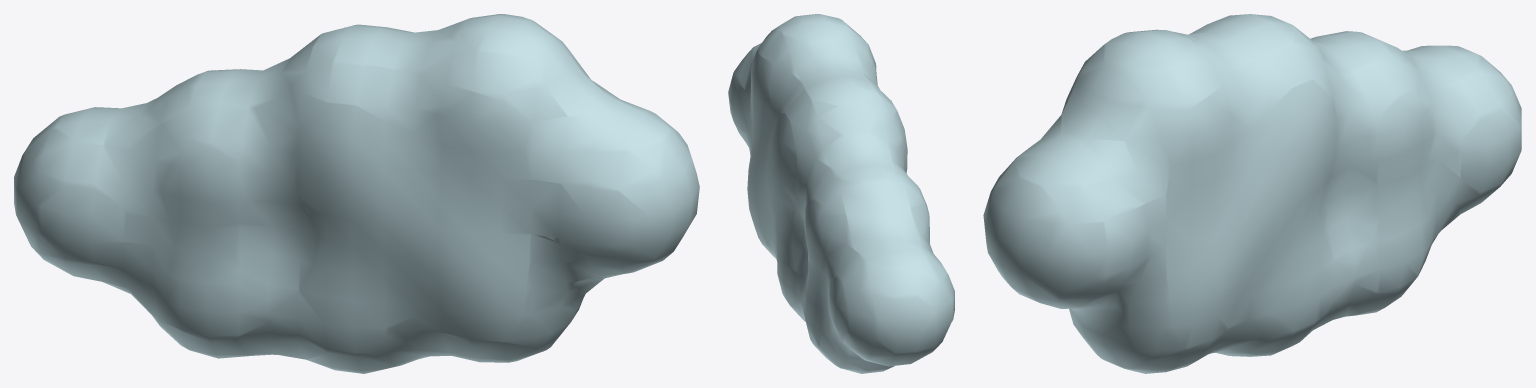
File: Clouds1.fbx
3 renders of one model, left to right at view 1: azimuth 30°, elevation 25°; view 2: azimuth 150°, elevation 25°; view 3: azimuth 270°, elevation 25°, orthographic. The views are drawn at different scales.
Parts seen in each view (by area): view 1: Mball; view 2: Mball; view 3: Mball.
Part boxes in pixels (x1=…): Mball: x1=14, y1=14, x2=699, y2=373; Mball: x1=728, y1=14, x2=954, y2=373; Mball: x1=983, y1=14, x2=1521, y2=373.
Size of the model in its own units: 724 by 524 by 725.
